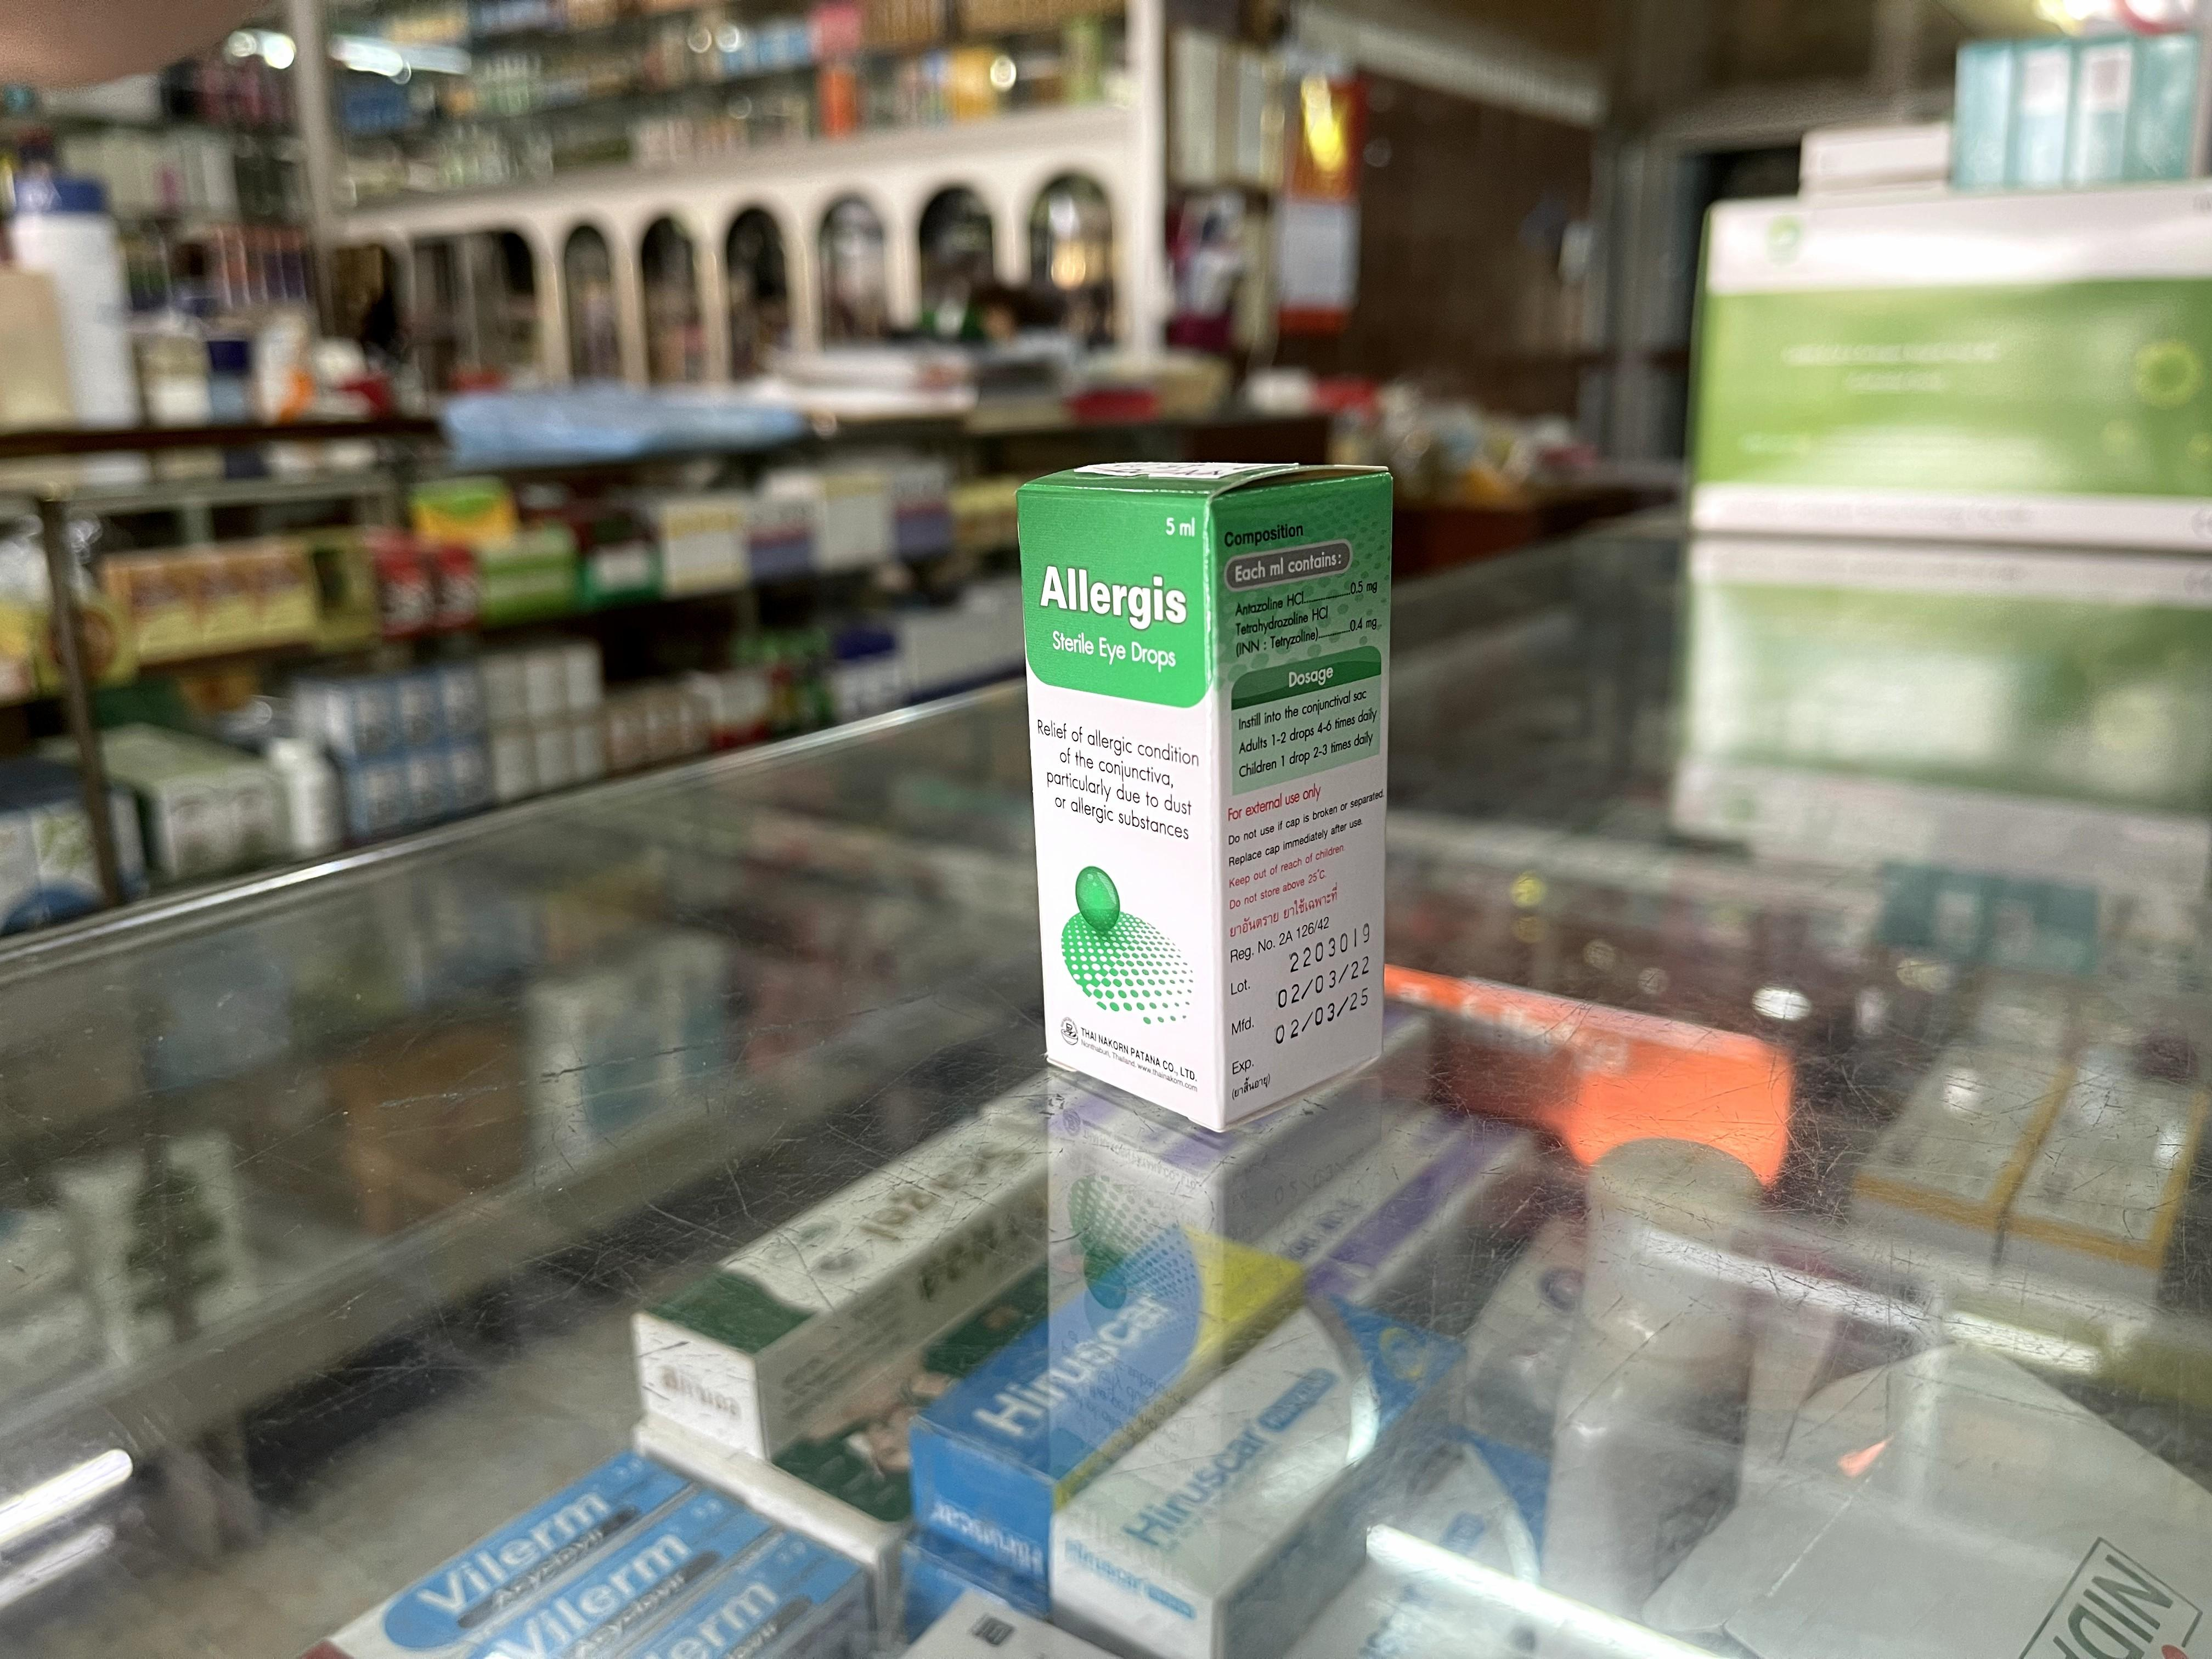Allergis: (1021, 464, 1399, 1133)
